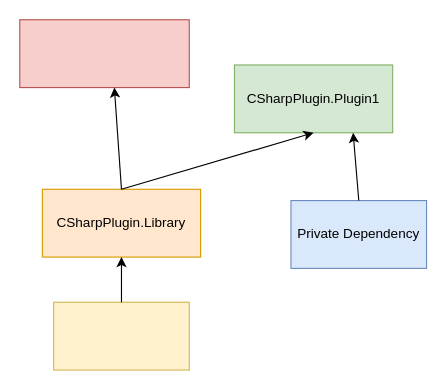
Some shapes in this 446 by 390 pixel diagram are drawn without their labels. The centre of each missing label's shape, as x and y in pixels:
CSharpPlugin.Container: the point at 104,53
Shared Dependency: the point at 121,335
